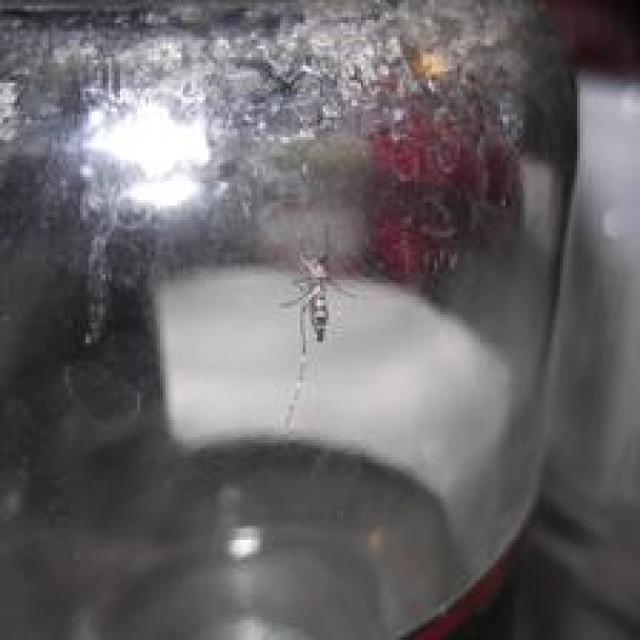Aedes albopictus: (280, 247, 357, 353)
